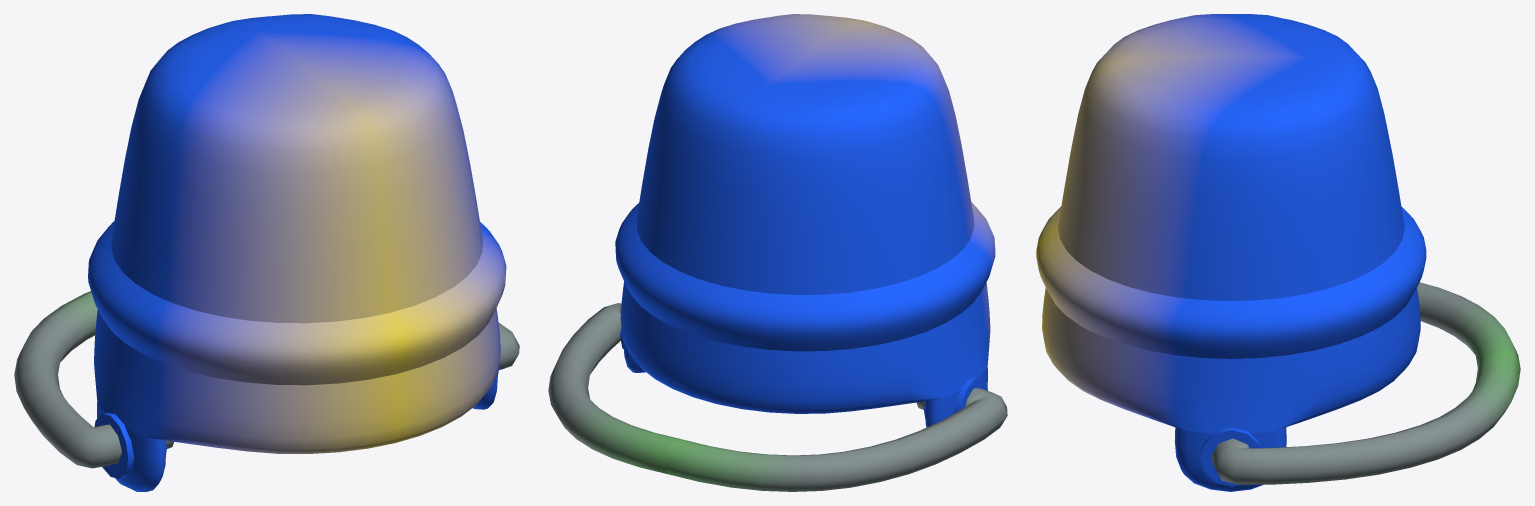
Rendered from Bucket_1.fbx.
3 renders of one model, left to right at view 1: azimuth 30°, elevation 25°; view 2: azimuth 150°, elevation 25°; view 3: azimuth 270°, elevation 25°, orthographic. The views are drawn at different scales.
Visible parts, largest first — view 1: Bucket_1, Handle; view 2: Bucket_1, Handle; view 3: Bucket_1, Handle.
Part boxes in pixels (bbox=[...]): Bucket_1: bbox=[88, 14, 506, 491]; Handle: bbox=[14, 291, 519, 468]; Bucket_1: bbox=[615, 14, 995, 427]; Handle: bbox=[548, 303, 1007, 491]; Bucket_1: bbox=[1036, 14, 1426, 491]; Handle: bbox=[1211, 282, 1520, 484].
Size of the model in its own units: 80.35 by 66.14 by 80.87.
